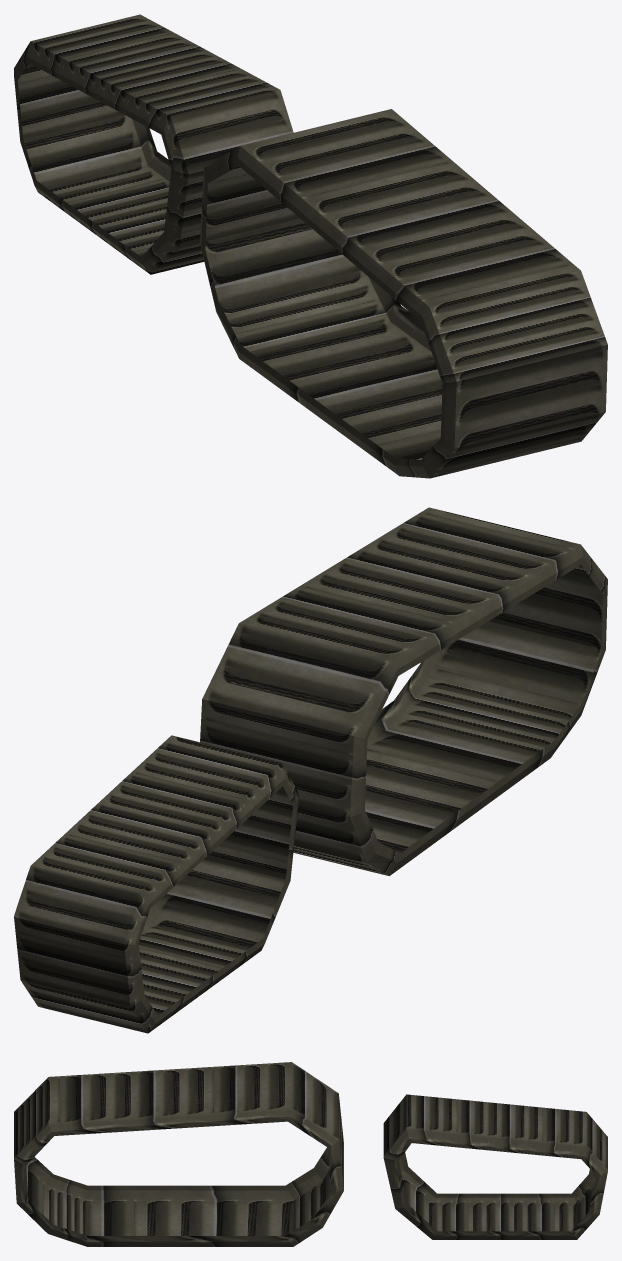
File: VSAAH_TRAC_L.bgf.obj
The picture shows the model from 3 angles, top to bottom: view 1: azimuth 30°, elevation 25°; view 2: azimuth 150°, elevation 25°; view 3: azimuth 270°, elevation 25°; orthographic projection. The views are drawn at different scales.
Parts seen in each view (by area): view 1: L_TRACK; view 2: L_TRACK; view 3: L_TRACK.
Boxes of the visible parts, <box> form: L_TRACK: <box>14,14,607,478</box>; L_TRACK: <box>14,507,607,1033</box>; L_TRACK: <box>14,1062,607,1246</box>.
Size of the model in its own units: 1.24 by 1.58 by 6.19.
1 material, 1 textured.
